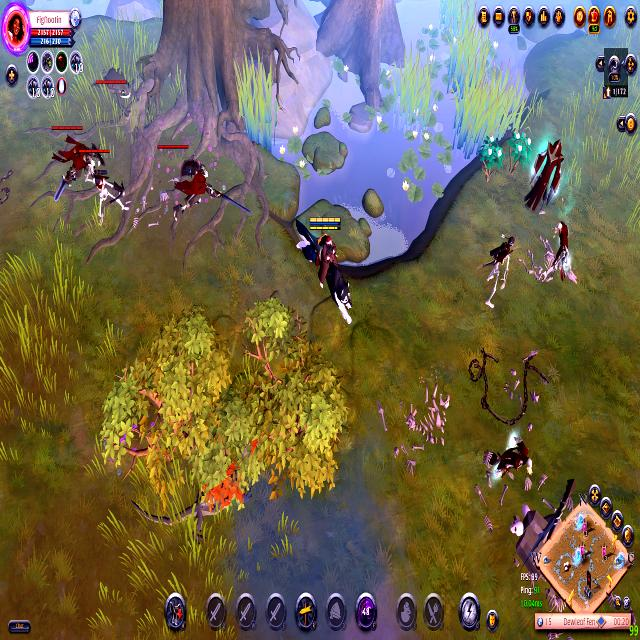hide: (474, 129, 507, 190), (505, 120, 536, 183)
ore: (127, 433, 263, 554), (153, 142, 257, 241), (46, 119, 100, 208), (77, 146, 131, 232), (482, 424, 536, 506), (525, 130, 572, 222), (481, 225, 518, 315), (92, 62, 139, 122), (538, 215, 574, 287)
red: (291, 202, 360, 341)
